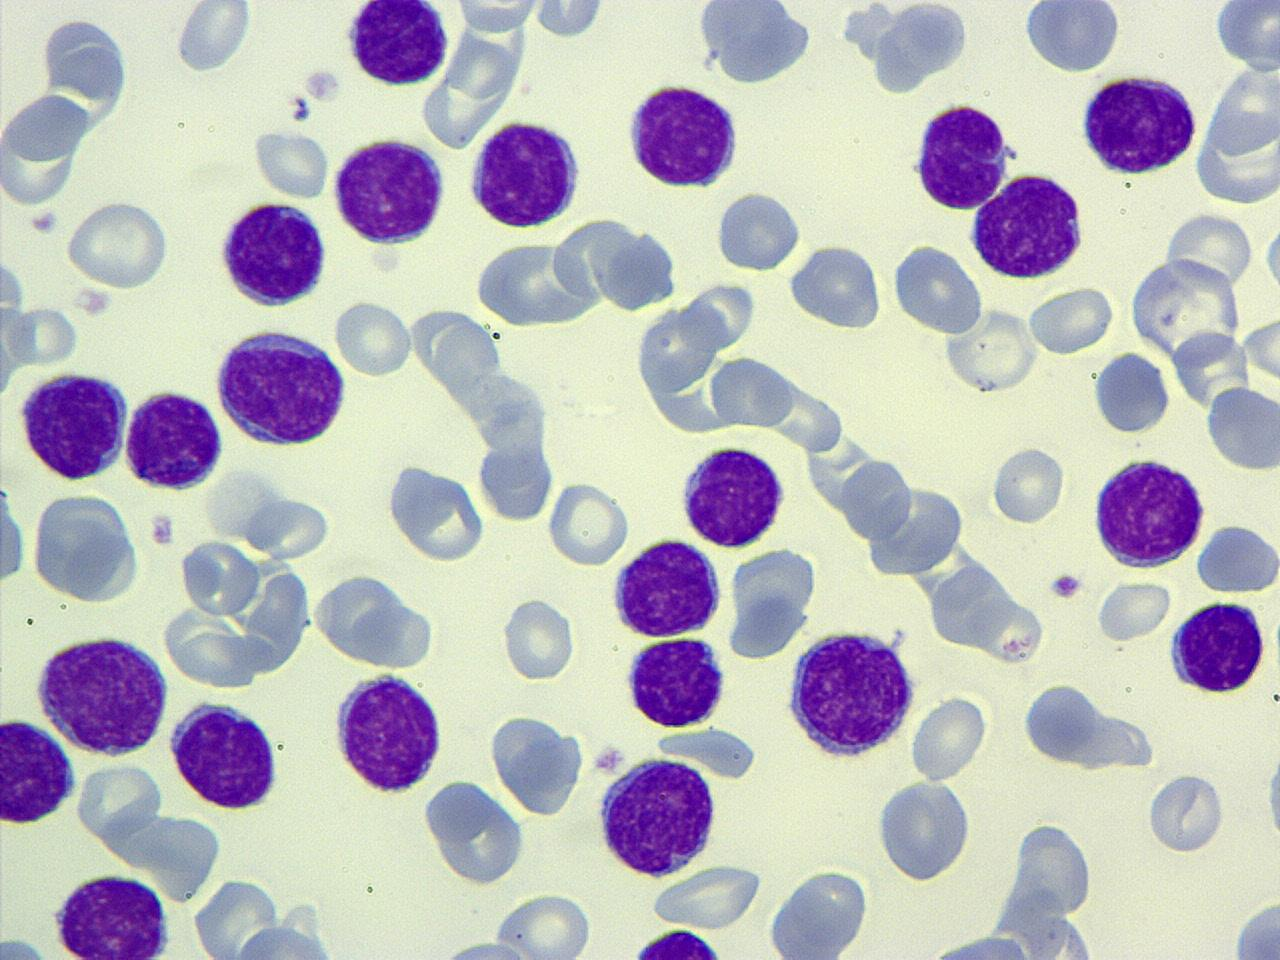Platelets: (172, 3, 255, 75), (0, 485, 31, 587), (1262, 749, 1280, 855), (302, 63, 343, 103), (1047, 570, 1085, 601), (592, 744, 626, 774), (29, 207, 61, 235), (290, 94, 314, 127)
RBC: (153, 530, 315, 694), (28, 488, 141, 604), (1192, 61, 1280, 208), (1126, 254, 1244, 361), (472, 235, 596, 328), (383, 459, 490, 564), (874, 774, 972, 884), (63, 197, 173, 291), (0, 93, 85, 208), (944, 301, 1043, 395), (888, 240, 984, 336), (787, 238, 886, 330), (650, 862, 765, 932), (74, 758, 163, 846), (544, 478, 630, 568), (1163, 208, 1255, 290), (1142, 768, 1228, 856), (494, 888, 598, 960), (476, 438, 560, 523), (1090, 348, 1172, 436), (708, 350, 796, 432), (1201, 381, 1279, 474), (910, 692, 988, 784), (333, 296, 416, 380), (500, 594, 578, 684), (177, 534, 260, 618), (990, 440, 1068, 527), (1172, 325, 1252, 410), (840, 455, 916, 543), (1027, 283, 1117, 357), (1193, 520, 1279, 594), (250, 123, 332, 200), (244, 494, 336, 560), (172, 628, 260, 692), (1094, 579, 1172, 643), (1213, 0, 1279, 76), (6, 302, 81, 367), (450, 0, 546, 35), (0, 484, 28, 588), (1241, 313, 1280, 383)
WBC: (0, 0, 143, 201), (153, 529, 316, 691), (631, 284, 777, 440), (783, 624, 919, 763), (31, 628, 172, 760), (210, 323, 352, 451), (594, 754, 720, 878), (330, 667, 450, 797), (1190, 34, 1280, 208), (185, 870, 357, 960), (1087, 452, 1209, 574), (904, 888, 1110, 960), (331, 132, 450, 251), (166, 694, 286, 812), (967, 168, 1089, 284), (466, 115, 588, 230), (25, 486, 145, 602), (834, 1, 975, 99), (216, 197, 334, 313), (623, 78, 744, 190), (1078, 70, 1202, 178), (16, 367, 131, 484), (314, 568, 436, 670), (677, 440, 791, 549), (420, 777, 530, 889), (1126, 254, 1242, 360), (609, 534, 725, 640), (912, 98, 1013, 214), (485, 707, 591, 817), (724, 542, 822, 658), (50, 868, 175, 960), (122, 383, 226, 493), (383, 458, 490, 564), (874, 775, 978, 883), (764, 860, 876, 960), (473, 236, 597, 326), (692, 1, 818, 88), (1166, 595, 1272, 698), (2, 93, 94, 209), (624, 633, 730, 731), (35, 11, 133, 113), (891, 236, 986, 338), (344, 0, 452, 89), (0, 714, 79, 828), (1008, 817, 1098, 917), (1020, 678, 1116, 770), (712, 188, 804, 275), (1021, 1, 1123, 77), (476, 440, 562, 524), (1091, 349, 1173, 437), (1202, 382, 1280, 472), (1195, 517, 1279, 597), (172, 3, 253, 76), (438, 0, 580, 36), (1212, 0, 1280, 72), (610, 924, 736, 959), (1228, 888, 1280, 960), (522, 0, 614, 40), (0, 480, 28, 591)
